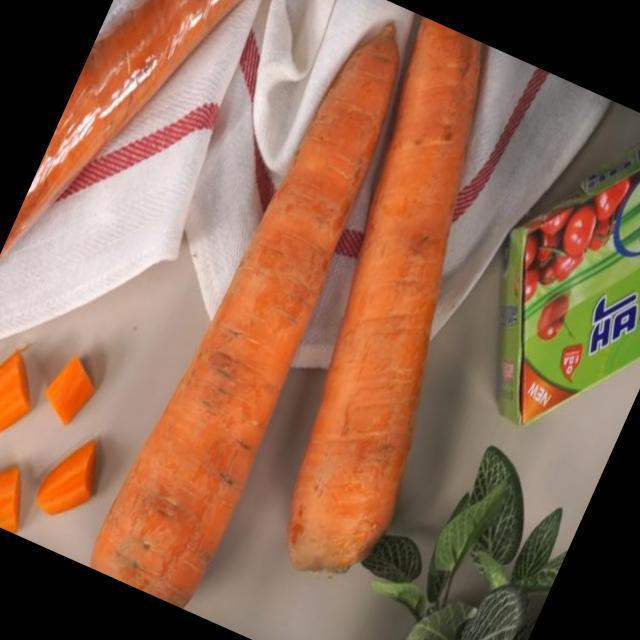Carrot: (91, 25, 399, 604), (289, 20, 481, 571), (2, 0, 239, 254)
